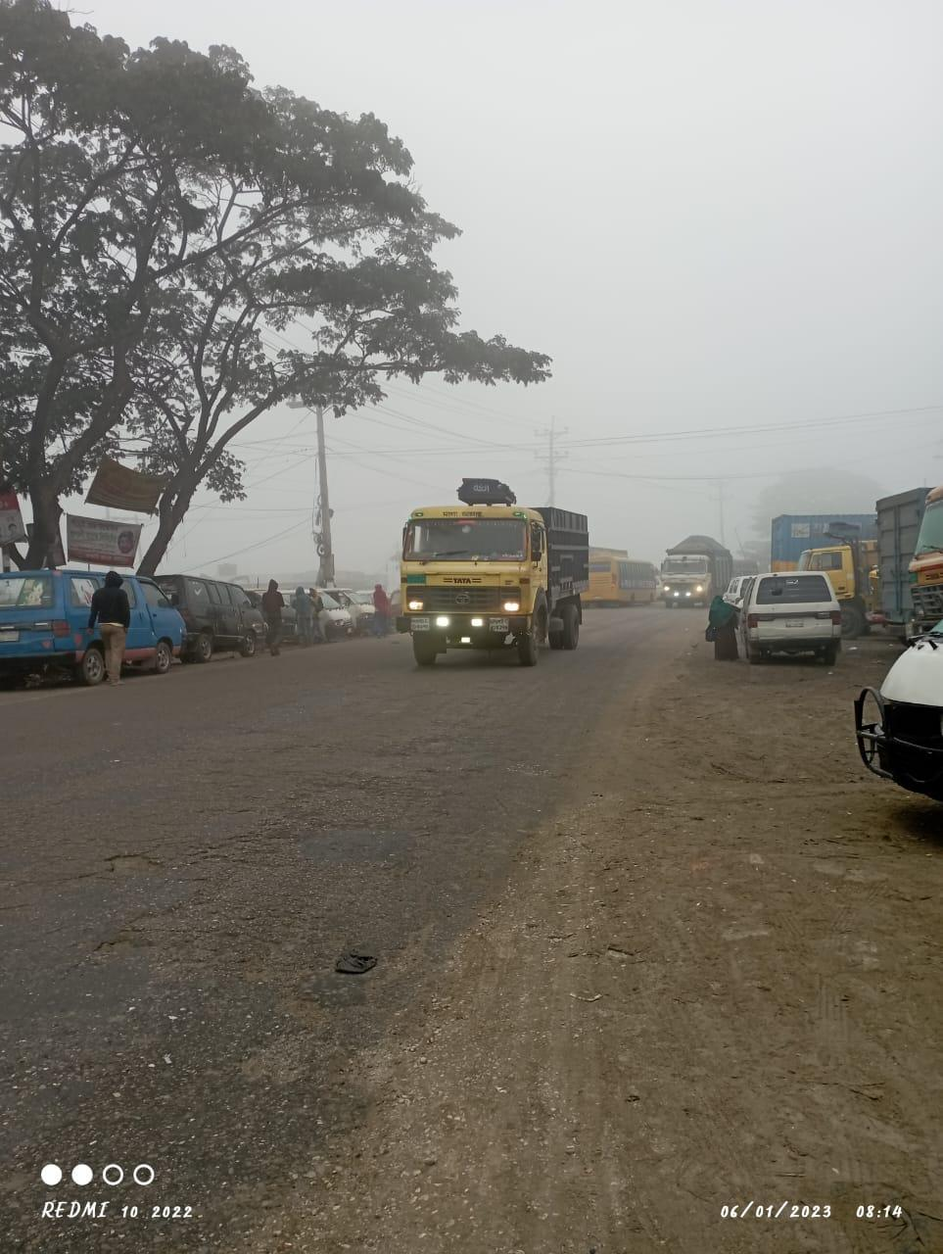Bus: (593, 547, 661, 611)
Car: (5, 557, 192, 679), (719, 569, 850, 670), (169, 567, 284, 667)
Truck: (398, 473, 601, 667), (654, 533, 722, 618)
